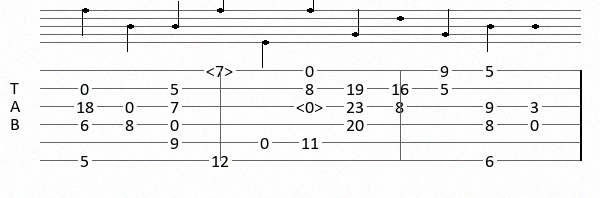0: (80, 81, 93, 96), (125, 99, 138, 114), (170, 117, 183, 132), (260, 135, 273, 150), (305, 63, 318, 78), (530, 117, 543, 132)
11: (301, 135, 323, 150)
12: (211, 153, 233, 168)
16: (391, 81, 413, 96)
18: (76, 99, 98, 114)
19: (346, 81, 368, 96)
20: (346, 117, 368, 132)
23: (346, 99, 368, 114)
3: (530, 99, 543, 114)
5: (80, 153, 93, 168), (170, 81, 183, 96), (440, 81, 453, 96), (485, 63, 498, 78)
6: (80, 117, 93, 132), (485, 153, 498, 168)
7: (170, 99, 183, 114)
8: (125, 117, 138, 132), (305, 81, 318, 96), (395, 99, 408, 114), (485, 117, 498, 132)
9: (170, 135, 183, 150), (440, 63, 453, 78), (485, 99, 498, 114)
harmonic: (206, 63, 237, 78), (296, 99, 327, 114)
